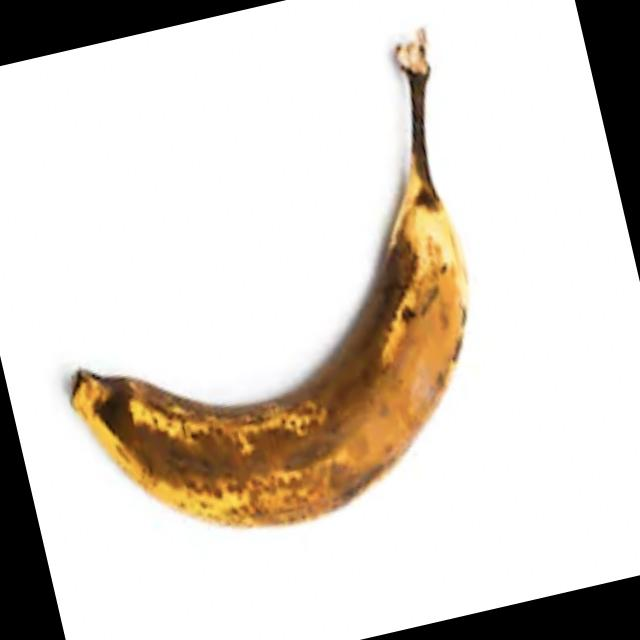rotten-banana: (14, 94, 516, 560)
